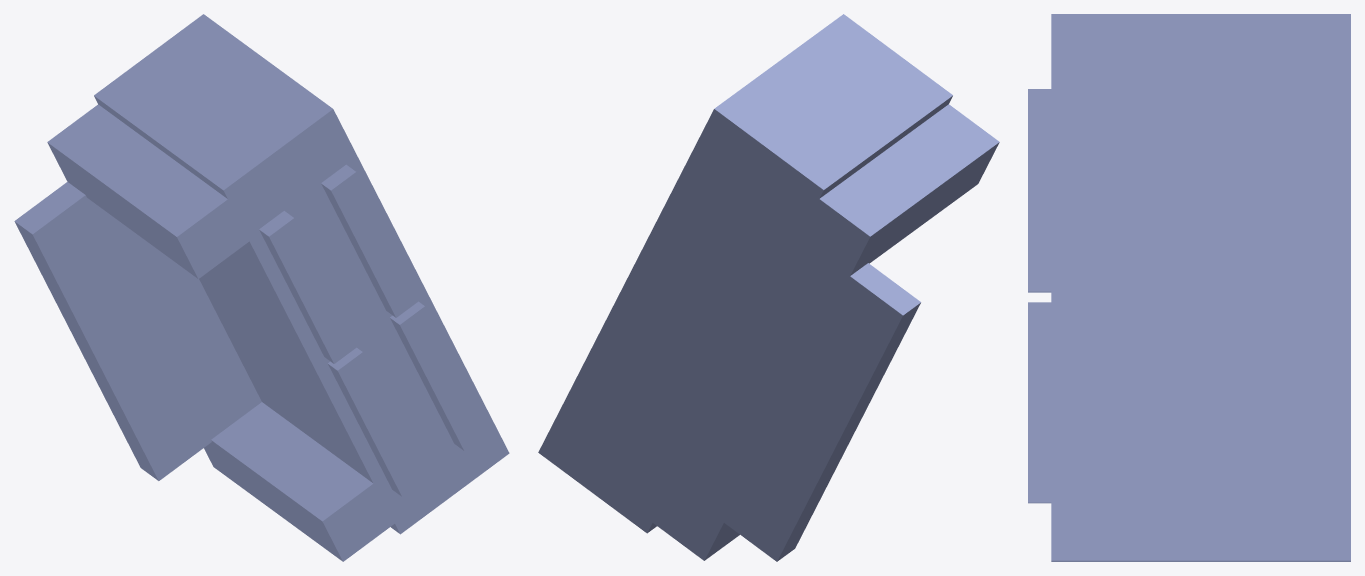
3 renders of one model, left to right at view 1: azimuth 30°, elevation 25°; view 2: azimuth 150°, elevation 25°; view 3: azimuth 270°, elevation 25°, orthographic. The views are drawn at different scales.
Parts seen in each view (by area): view 1: E1A; view 2: E1A; view 3: E1A.
Part boxes in pixels (x1,y1,x2,y2): E1A: [14, 14, 509, 561]; E1A: [538, 14, 999, 561]; E1A: [1028, 14, 1350, 561].
Bounding box in the file's own units: 50.04 × 59.57 × 33.14.
